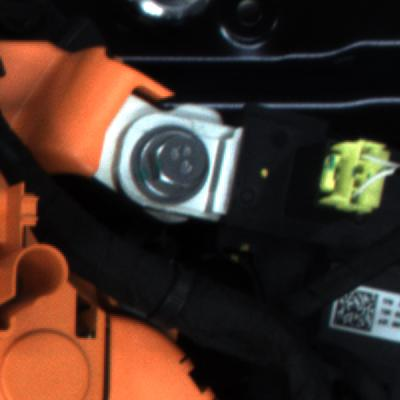nut_b: (130, 126, 220, 209)
